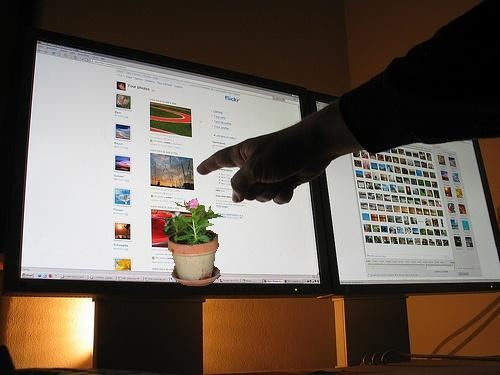tampered: (164, 199, 223, 286)
